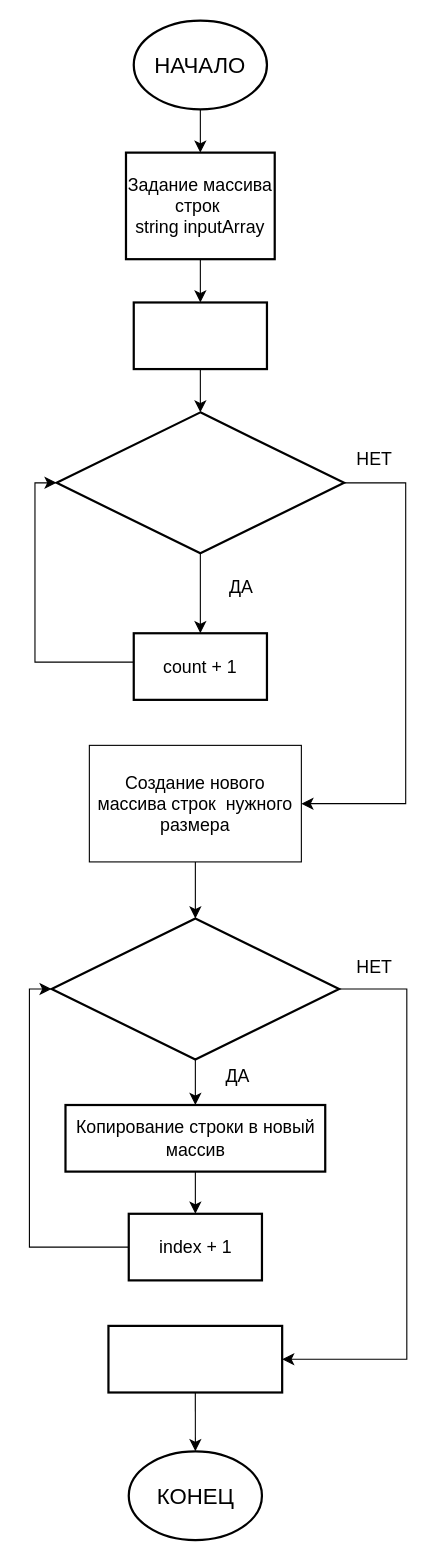
Image size: 437x1560. Some labels were removed from this diagram. The shapes that lost their labels are listed below. From the top down, each one's box as (x1, y1, x2, y2) in pixels, then its label:
(132, 301, 268, 370): count = 0 index = 0
(55, 411, 345, 554): Проверка условия размера строки str.Lenght <= 3
(50, 917, 340, 1060): Проверка условия размера строки в новом массиве str.Lenght <= 3
(107, 1324, 283, 1393): Вывод отфильтрованного массива строк
